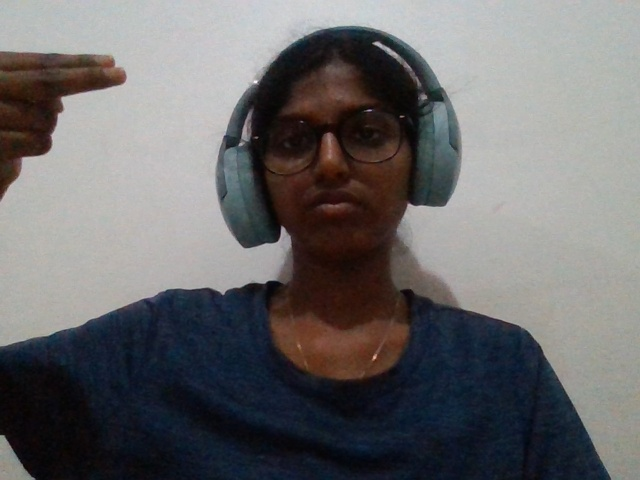H: (1, 14, 141, 237)
